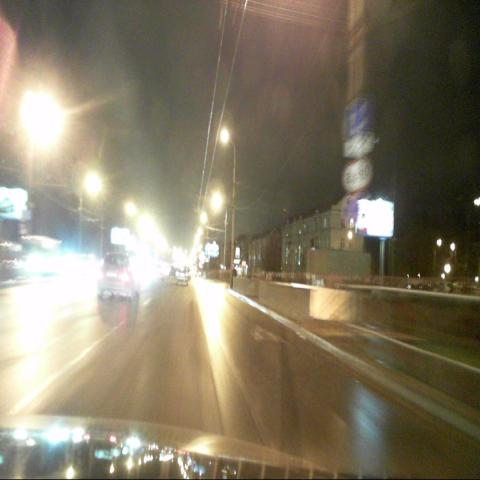8_5_2: (352, 134, 376, 154)
